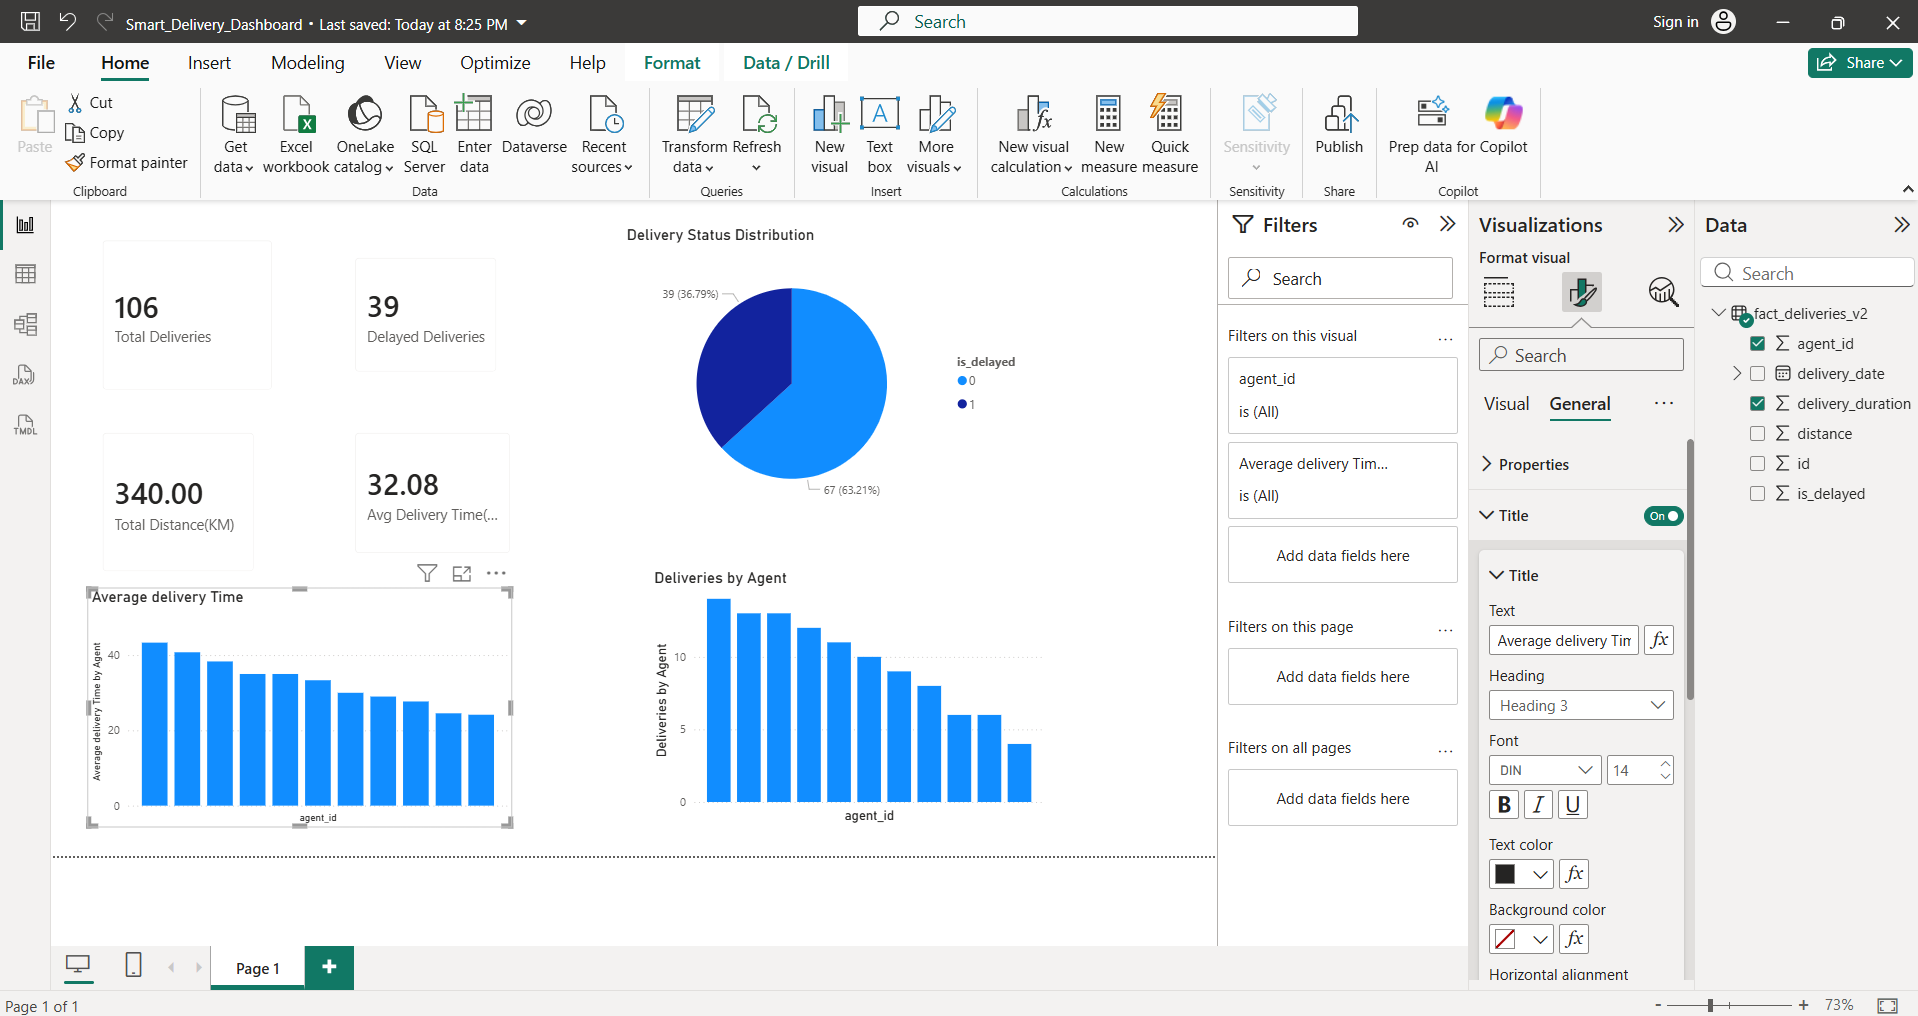

The page's visual inventory and layout, read from the dashboard file:
{"tool":"powerbi","page":{"name":"Page 1","canvas":[1280,720],"ordinal":0},"visuals":[{"type":"pieChart","title":"Delivery Status Distribution","fields":{"Category":["fact_deliveries_v2.is_delayed"],"Y":["CountNonNull(fact_deliveries_v2.id)"]},"box":[627.1,27.4,455.6,329.3],"z":0},{"type":"clusteredColumnChart","title":"Deliveries by Agent ","fields":{"Y":["CountNonNull(fact_deliveries_v2.id)"],"Category":["fact_deliveries_v2.agent_id"]},"box":[657.3,404.8,437.7,284],"z":1},{"type":"cardVisual","fields":{"Data":["CountNonNull(fact_deliveries_v2.id)"]},"box":[39.8,27.4,220.9,199],"z":2},{"type":"cardVisual","fields":{"Data":["Avg(fact_deliveries_v2.delivery_duration)"]},"box":[317,238.8,204.5,166],"z":3},{"type":"cardVisual","fields":{"Data":["Sum(fact_deliveries_v2.distance)"]},"box":[39.8,238.8,200.3,186.6],"z":4},{"type":"cardVisual","fields":{"Data":["Sum(fact_deliveries_v2.is_delayed)"]},"box":[317,46.7,189.4,159.2],"z":5},{"type":"clusteredColumnChart","title":"Average delivery Time","fields":{"Category":["fact_deliveries_v2.agent_id"],"Y":["Avg(fact_deliveries_v2.delivery_duration)"]},"box":[39.8,425.4,466.6,263.5],"z":6}]}

Visuals, with their boxes on the page's 1280x720 design canvas (x1, y1, x2, y2). These are canvas units, not pixel positions in the 1918x1016 screenshot, which may show the page scaled, cropped or inside an application window:
"Delivery Status Distribution" pieChart: region(627, 27, 1083, 357)
"Deliveries by Agent " clusteredColumnChart: region(657, 405, 1095, 689)
cardVisual - CountNonNull(fact_deliveries_v2.id): region(40, 27, 261, 226)
cardVisual - Avg(fact_deliveries_v2.delivery_duration): region(317, 239, 522, 405)
cardVisual - Sum(fact_deliveries_v2.distance): region(40, 239, 240, 425)
cardVisual - Sum(fact_deliveries_v2.is_delayed): region(317, 47, 506, 206)
"Average delivery Time" clusteredColumnChart: region(40, 425, 506, 689)
